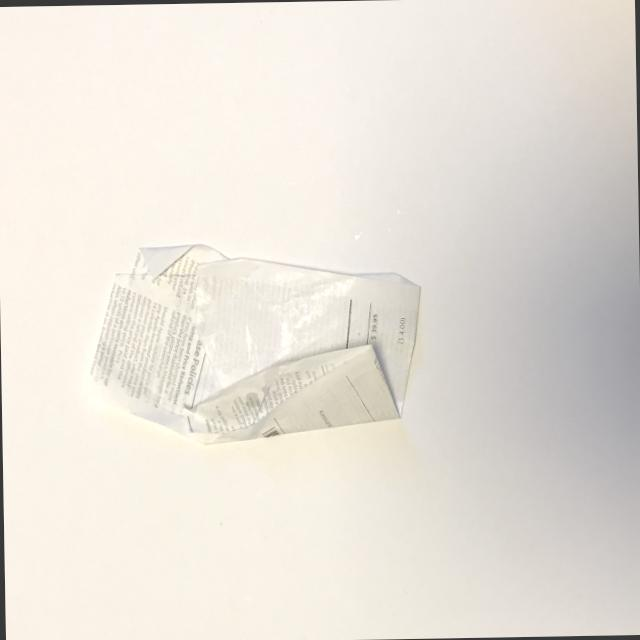Paper: (69, 231, 428, 447)
